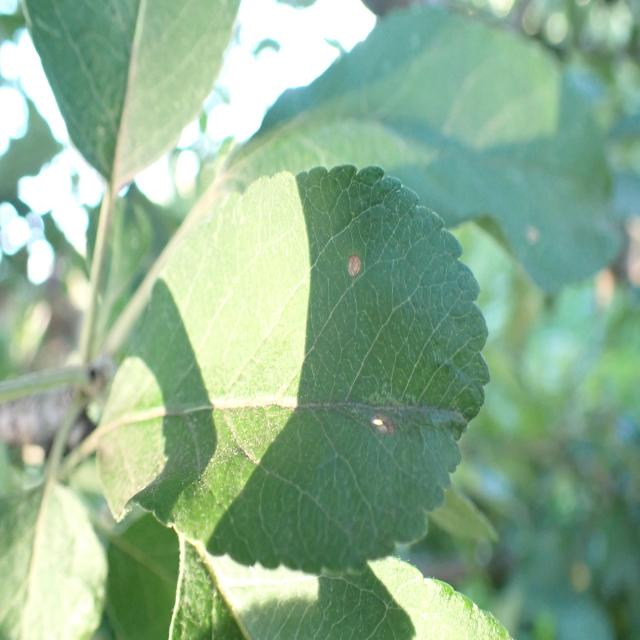frog-eye-leaf-spot: (98, 162, 491, 576)
